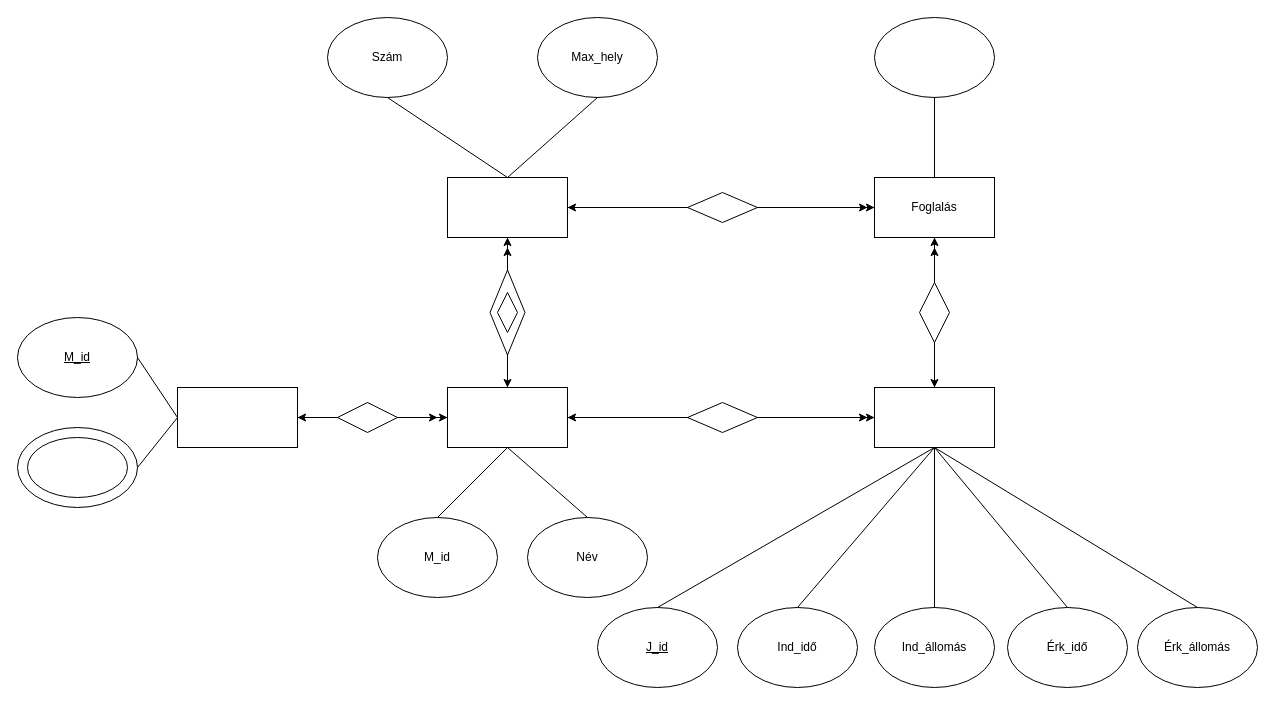
Some shapes in this 1275 by 705 pixel diagram are drawn without their labels. Here are the shapes that lost their labels. From the top down, the centre of each, then its label:
At pixel 934 57: "F_id".
At pixel 507 207: "Kocsi".
At pixel 237 417: "Máv".
At pixel 507 417: "Vonat".
At pixel 934 417: "Járat".
At pixel 77 467: "Állomás".
